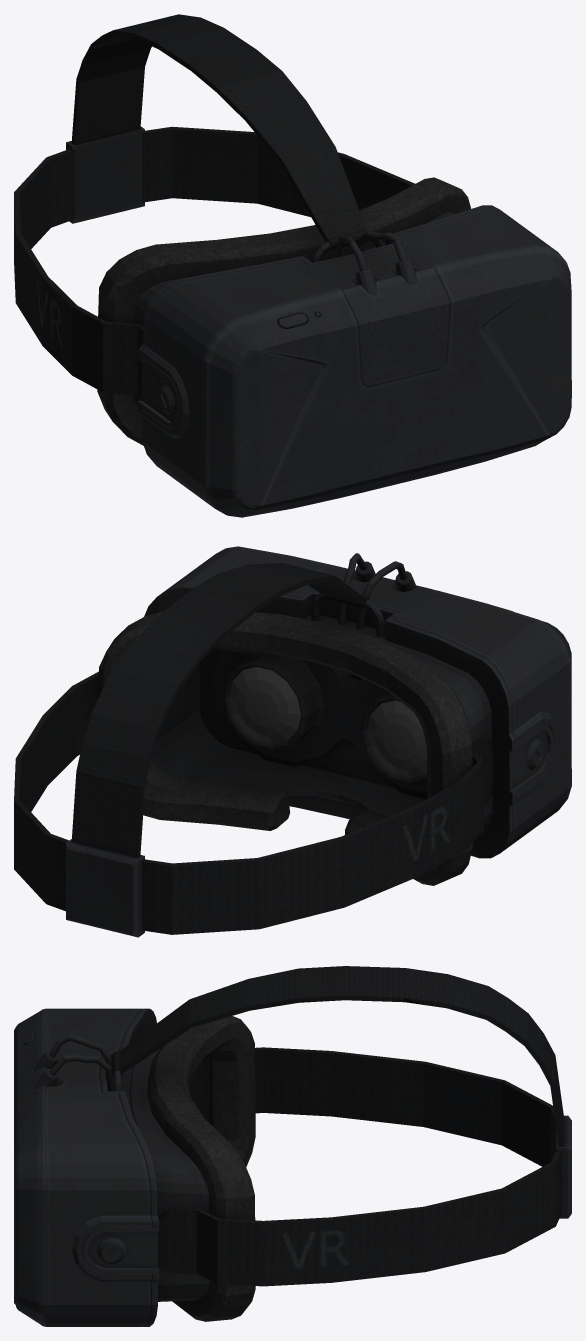
File: vr+headset.fbx
3 renders of one model, top to bottom at view 1: azimuth 30°, elevation 25°; view 2: azimuth 150°, elevation 25°; view 3: azimuth 270°, elevation 25°, orthographic. The views are drawn at different scales.
Parts seen in each view (by area): view 1: skpA4EE1; view 2: skpA4EE1; view 3: skpA4EE1.
Boxes of the visible parts, box(x1,y1,x2,y2) form: skpA4EE1: box(14, 14, 571, 517); skpA4EE1: box(14, 546, 571, 937); skpA4EE1: box(14, 966, 571, 1326).
Bounding box in the file's own units: 232 × 174 × 312.
